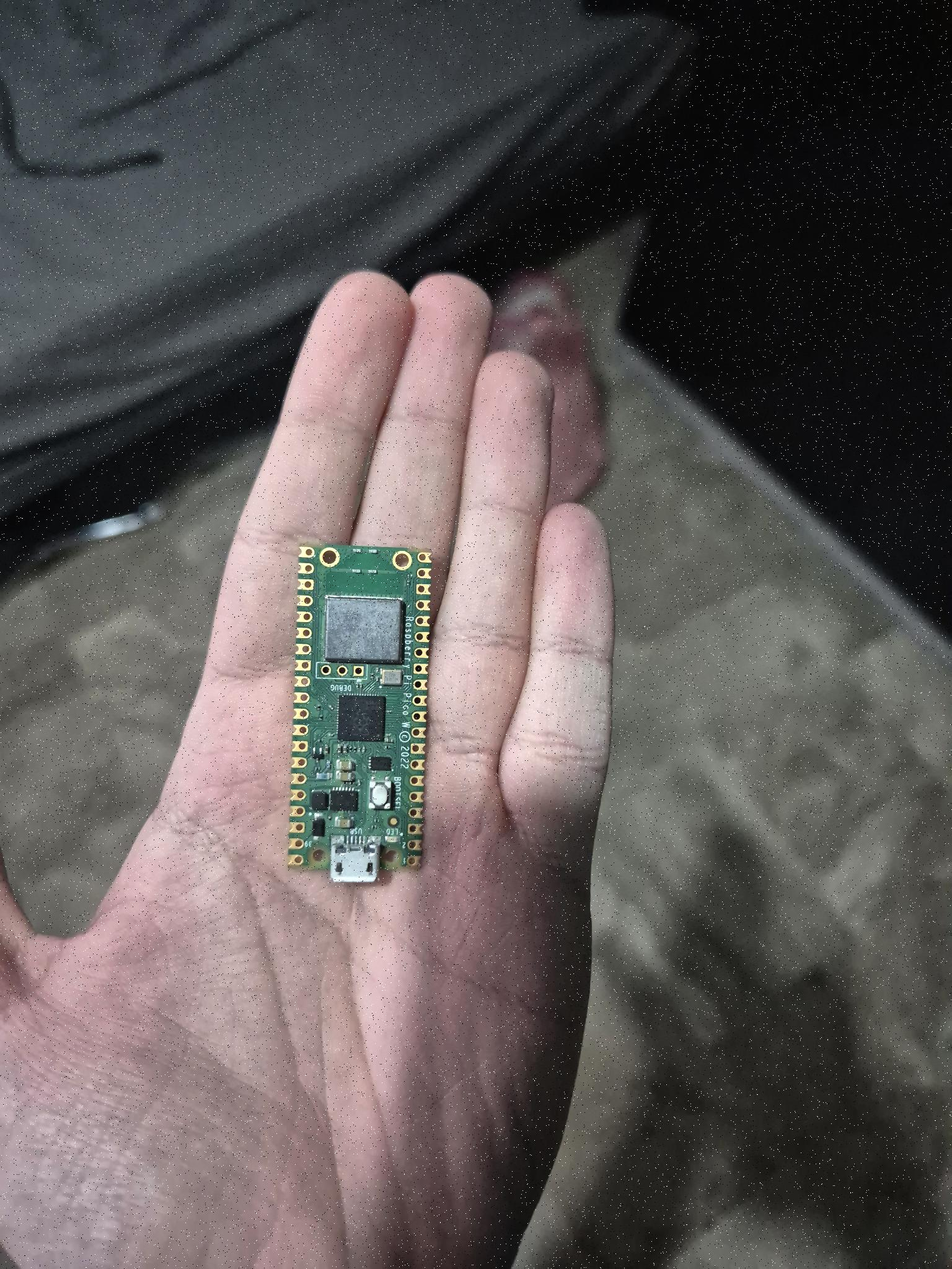raspberry-pi-pico-w: (288, 544, 434, 883)
